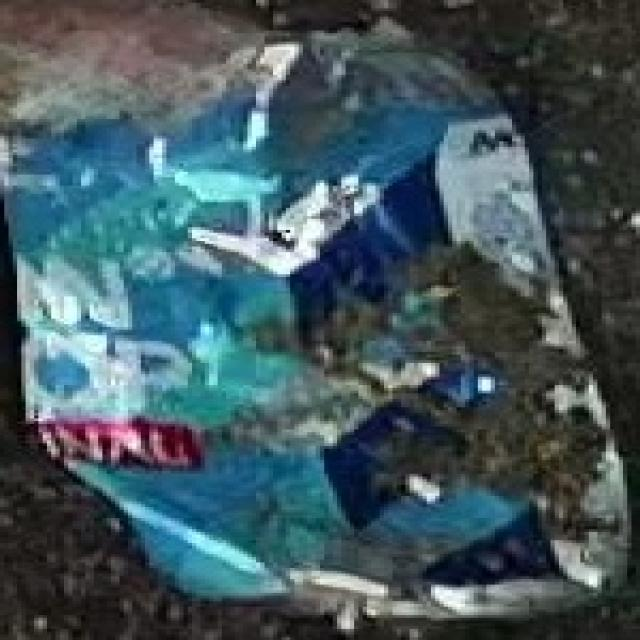litter: (10, 42, 631, 613)
